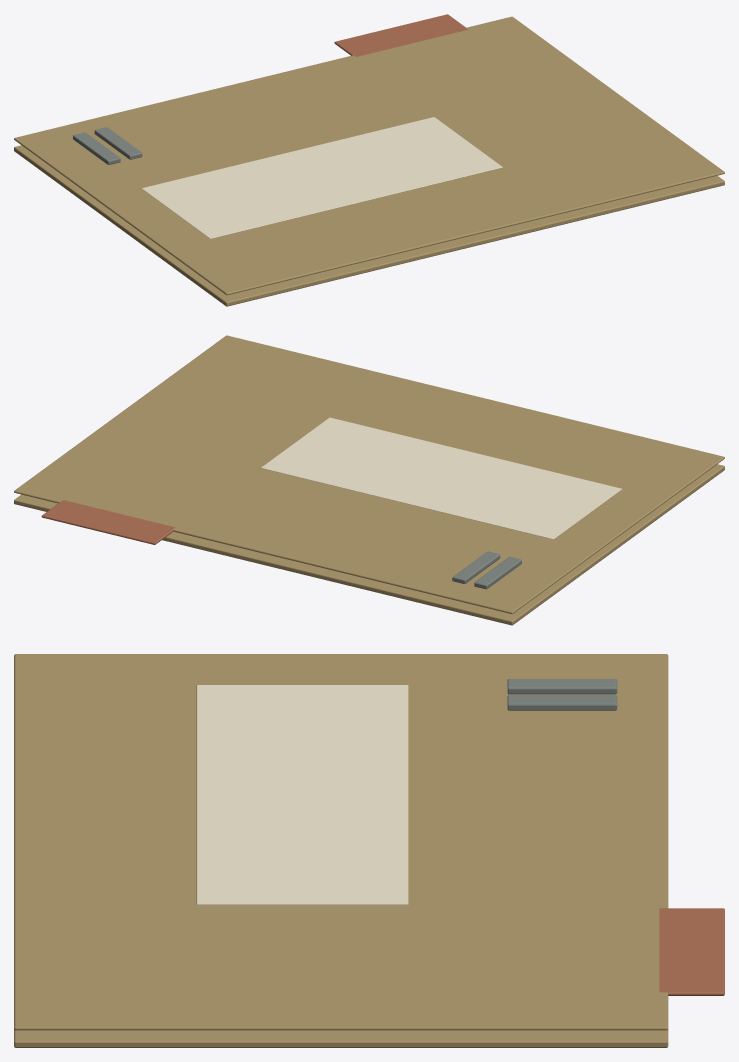
The model's file is A16_Folio.fbx.
3 renders of one model, top to bottom at view 1: azimuth 30°, elevation 25°; view 2: azimuth 150°, elevation 25°; view 3: azimuth 270°, elevation 25°, orthographic. The views are drawn at different scales.
Visible parts, largest first — view 1: Cover, Label field, Back cover, Index tab, Archive fastener.001, Archive fastener; view 2: Cover, Label field, Back cover, Index tab, Archive fastener.001, Archive fastener; view 3: Cover, Label field, Back cover, Index tab, Archive fastener.001, Archive fastener.
Part boxes in pixels (<box>): Cover: <box>14,16,724,295</box>; Label field: <box>141,117,502,238</box>; Back cover: <box>14,145,724,306</box>; Index tab: <box>334,14,467,56</box>; Archive fastener.001: <box>94,127,142,159</box>; Archive fastener: <box>73,132,120,164</box>; Cover: <box>14,335,724,613</box>; Label field: <box>261,417,621,539</box>; Back cover: <box>14,464,724,625</box>; Index tab: <box>41,500,175,544</box>; Archive fastener.001: <box>452,551,500,583</box>; Archive fastener: <box>474,556,521,589</box>; Cover: <box>14,654,668,1030</box>; Label field: <box>196,685,408,904</box>; Back cover: <box>14,1029,668,1047</box>; Index tab: <box>659,908,724,995</box>; Archive fastener.001: <box>507,695,617,710</box>; Archive fastener: <box>507,679,617,694</box>.
Bounding box in the file's own units: 46 × 1.6 × 36.95.
